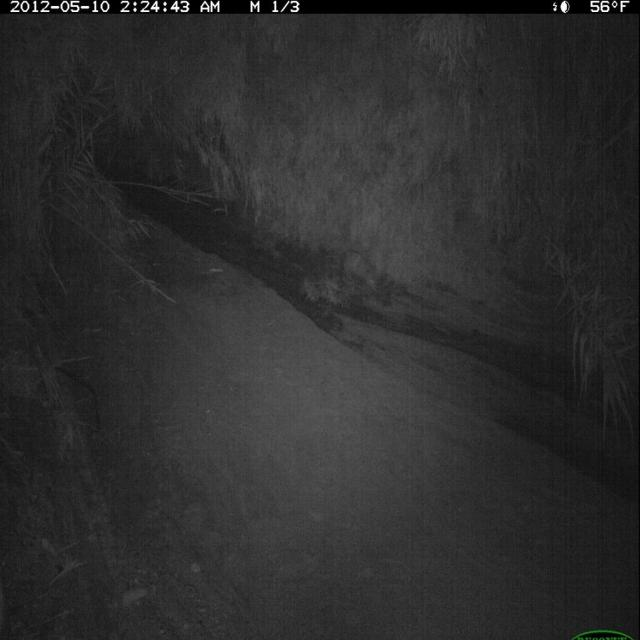opossum: (333, 246, 385, 298)
